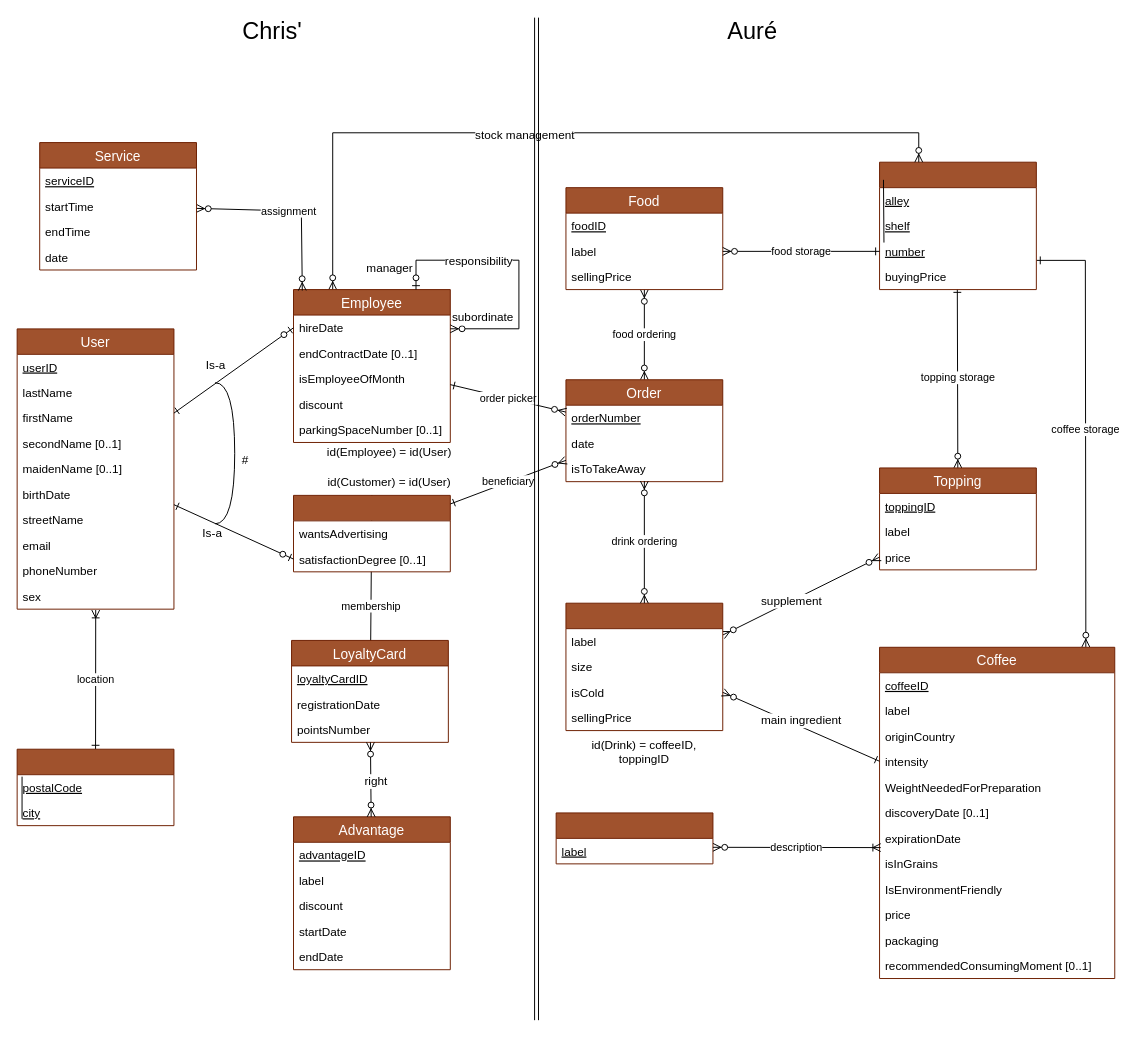
Some shapes in this 1137 by 1037 pixel diagram are drawn without their labels. The shapes that lost their labels are listed below. From the top down, each one's box as (x1, y1, x2, y2) in pixels, then its label:
(879, 161, 1036, 290): StockLocation
(293, 494, 450, 572): Customer
(565, 602, 723, 731): Drink
(16, 748, 174, 826): Locality
(555, 812, 713, 864): Feature
